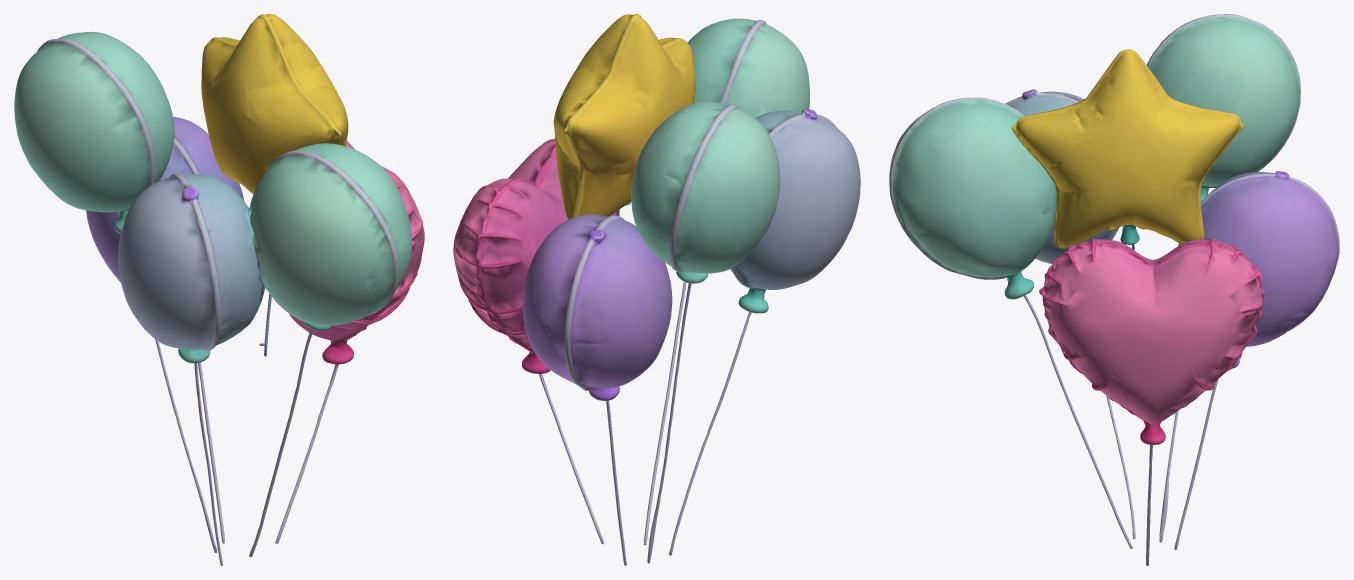
The model's file is party-balloons.glb.
The picture shows the model from 3 angles, left to right: view 1: azimuth 30°, elevation 25°; view 2: azimuth 150°, elevation 25°; view 3: azimuth 270°, elevation 25°; orthographic projection. The views are drawn at different scales.
Visible parts, largest first — view 1: tripo_node_54b61145-6df7-4f75-8bee-c2bfd9504381; view 2: tripo_node_54b61145-6df7-4f75-8bee-c2bfd9504381; view 3: tripo_node_54b61145-6df7-4f75-8bee-c2bfd9504381.
Boxes of the visible parts, x1,y1,x2,y2 form: tripo_node_54b61145-6df7-4f75-8bee-c2bfd9504381: (14,14,424,565); tripo_node_54b61145-6df7-4f75-8bee-c2bfd9504381: (453,14,860,565); tripo_node_54b61145-6df7-4f75-8bee-c2bfd9504381: (889,14,1339,565).
Size of the model in its own units: 0.6456 by 0.9995 by 0.8044.
Materials: 1 (1 with a texture image).
